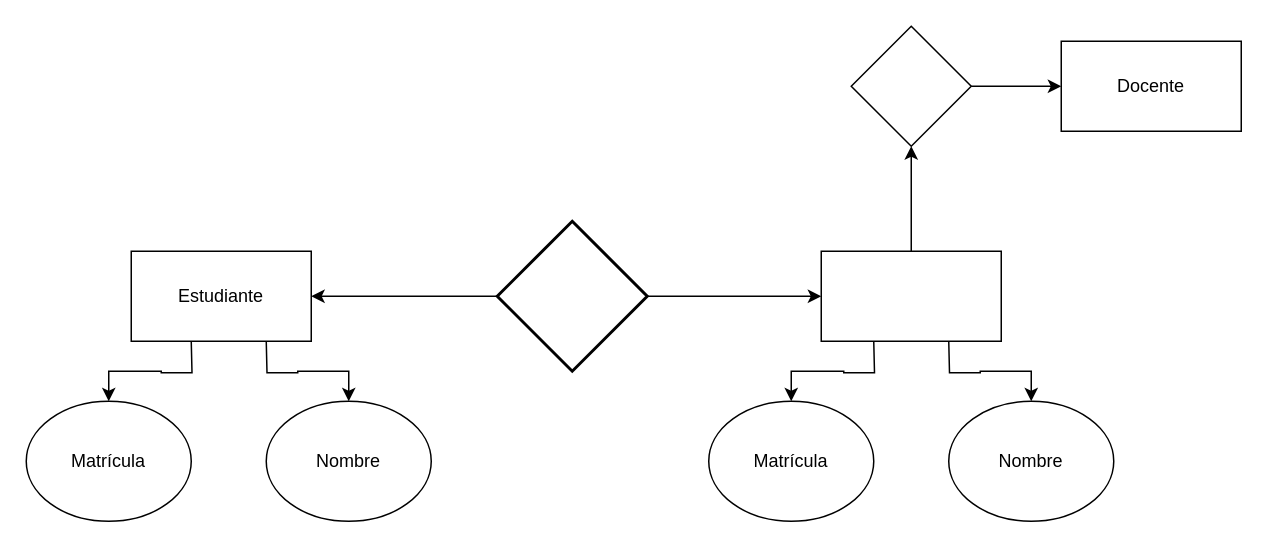
The diagram is 1268 pixels wide and 548 high, and some of its shapes have lost their labels. The shapes that lost their labels are listed below. From the top down, each one's centre as x and y in pixels, then its label:
At (910,85): "Imparte".
At (571,295): "Trene".
At (910,295): "Materias".
